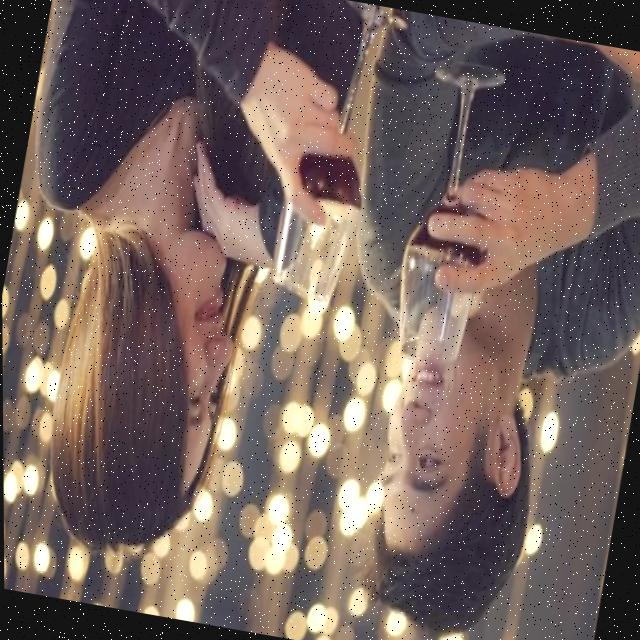eating-person: (0, 0, 390, 598), (278, 7, 640, 640)
